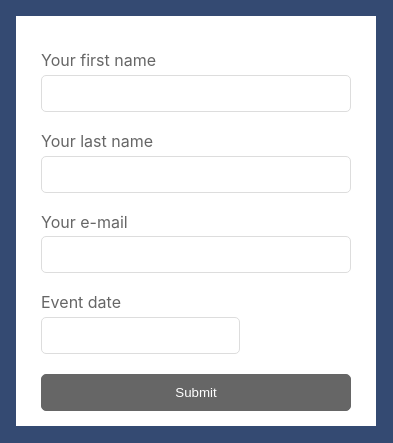
EventForm component › inputs cleared after confirmation
This screenshot has width=393, height=443.
Type "test" into the field labelled "Your first name" at {"x": 196, "y": 93}, box [41,75,351,112]
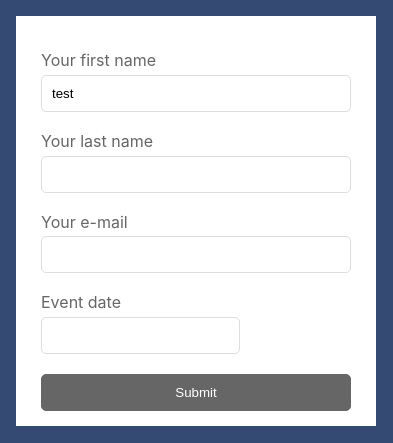
Type "test" into the field labelled "Your last name" at {"x": 196, "y": 174}, box [41,156,351,193]
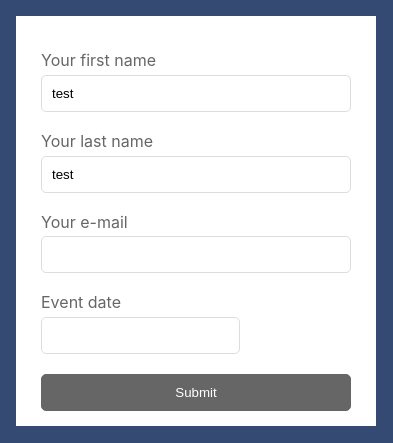
Type "test@test.pl" into the field labelled "Your e-mail" at {"x": 196, "y": 255}, box [41,236,351,273]
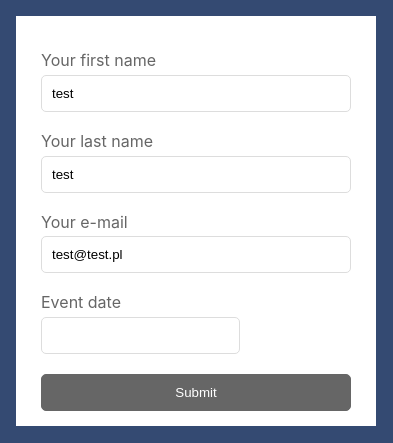
Type "07/16/2022" into the field labelled "Event date" at {"x": 140, "y": 336}, box [41,317,240,354]
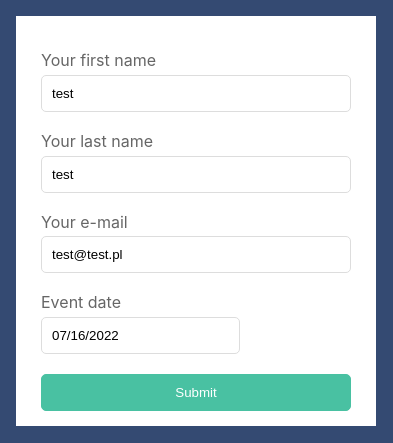
Click the button "Submit" at {"x": 196, "y": 393}, box [41,374,351,411]
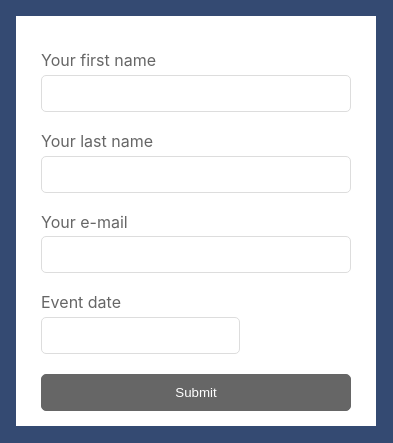
Now the button "Submit" is disabled, box [41,374,351,411]
Now the field labelled "Your first name" is empty, box [41,75,351,112]
Now the field labelled "Your last name" is empty, box [41,156,351,193]
